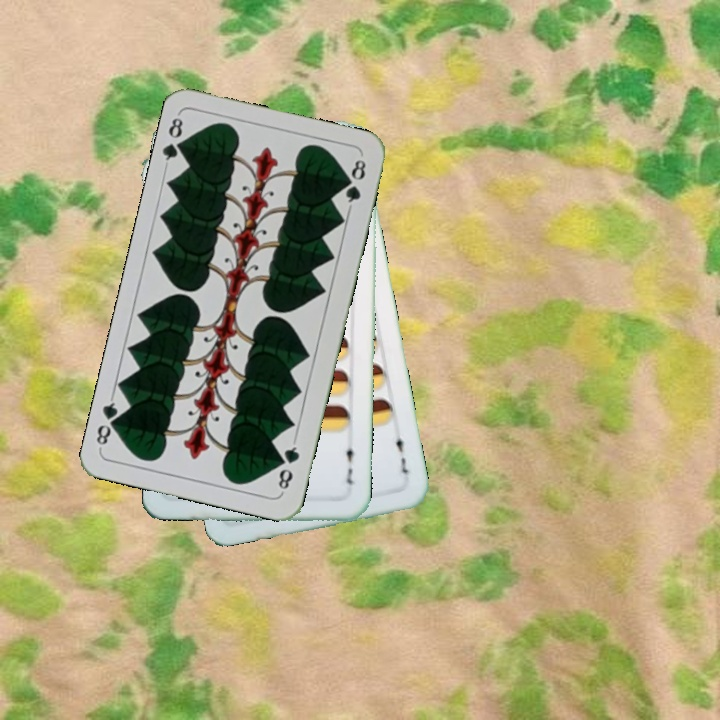E7: (392, 427, 411, 478), (342, 439, 358, 488)
G8: (159, 110, 191, 169), (274, 437, 302, 495)
